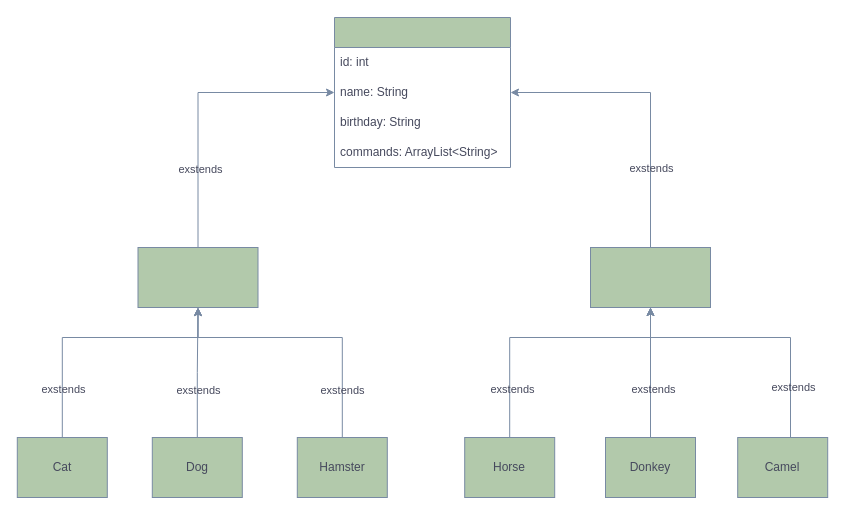
Some shapes in this 846 by 515 pixel diagram are drawn without their labels. The box of each missing label's shape, as (x1, y1, x2, y2) in pixels:
Animal: (334, 16, 510, 168)
Pack animals: (590, 246, 710, 308)
Pets: (137, 246, 258, 308)
